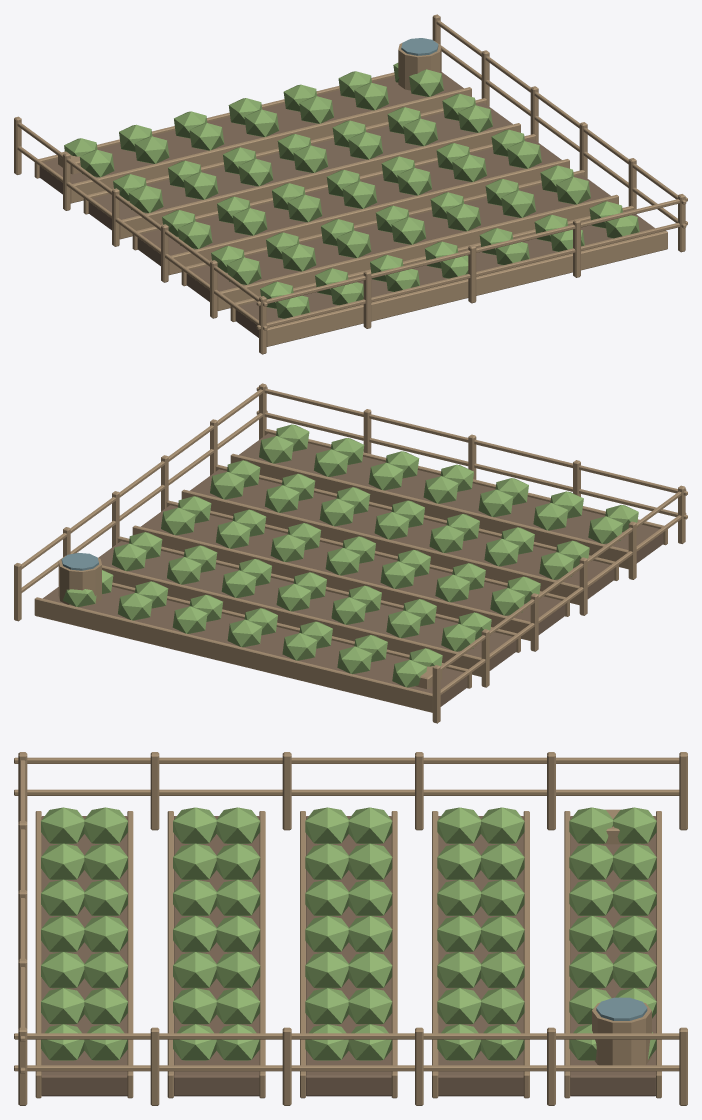
File: farm.glb
3 views of the same model, one above another, from view 1: azimuth 30°, elevation 25°; view 2: azimuth 150°, elevation 25°; view 3: azimuth 270°, elevation 25° (orthographic). The views are drawn at different scales.
Visible parts, largest first — view 1: farm; view 2: farm; view 3: farm.
Part boxes in pixels (<box>): farm: <box>14,14,687,354</box>; farm: <box>14,383,687,723</box>; farm: <box>14,752,687,1105</box>.
Bounding box in the file's own units: 7.6 × 0.95 × 7.65.
